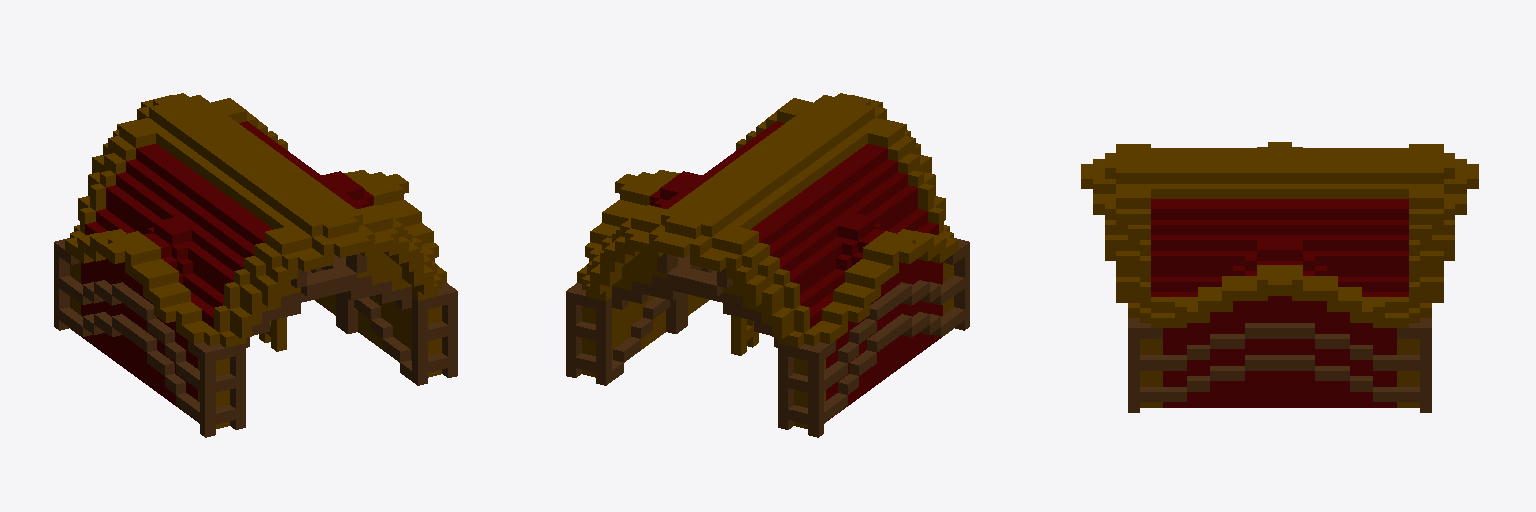
3 views of the same model, side by side, from view 1: azimuth 30°, elevation 25°; view 2: azimuth 150°, elevation 25°; view 3: azimuth 270°, elevation 25° (orthographic).
Size of the model in its own units: 29 by 18 by 34.
Materials: 1 (1 with a texture image).